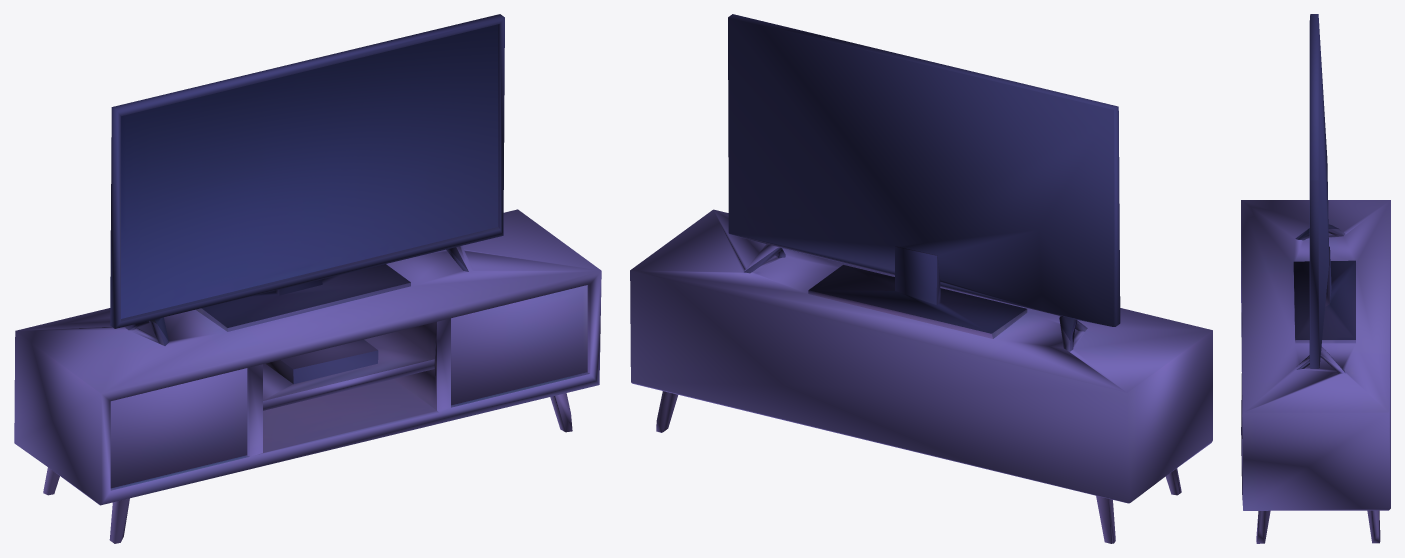
Rendered from model.progressive.glb.
3 renders of one model, left to right at view 1: azimuth 30°, elevation 25°; view 2: azimuth 150°, elevation 25°; view 3: azimuth 270°, elevation 25°, orthographic. The views are drawn at different scales.
Visible parts, largest first — view 1: mesh_input; view 2: mesh_input; view 3: mesh_input.
Boxes of the visible parts, x1=… form: mesh_input: x1=14, y1=14, x2=601, y2=543; mesh_input: x1=630, y1=14, x2=1212, y2=543; mesh_input: x1=1241, y1=14, x2=1390, y2=543.
Size of the model in its own units: 1.9 by 1.45 by 0.5625.
Materials: 1 (1 with a texture image).
